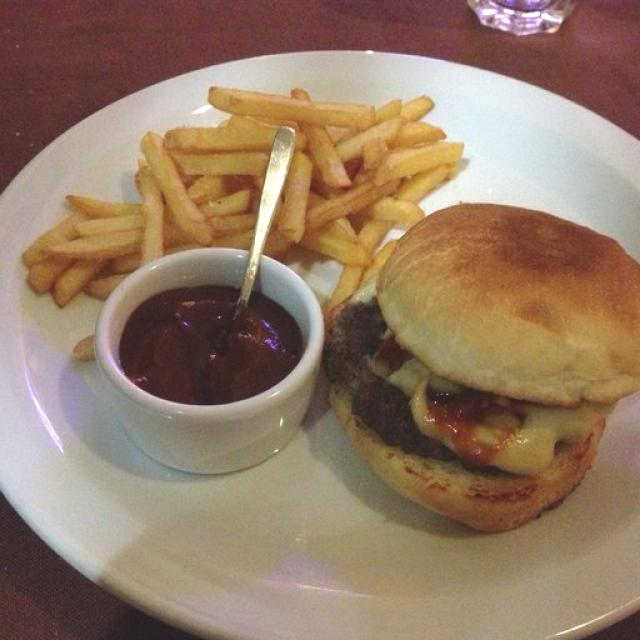burger: (347, 193, 637, 484)
